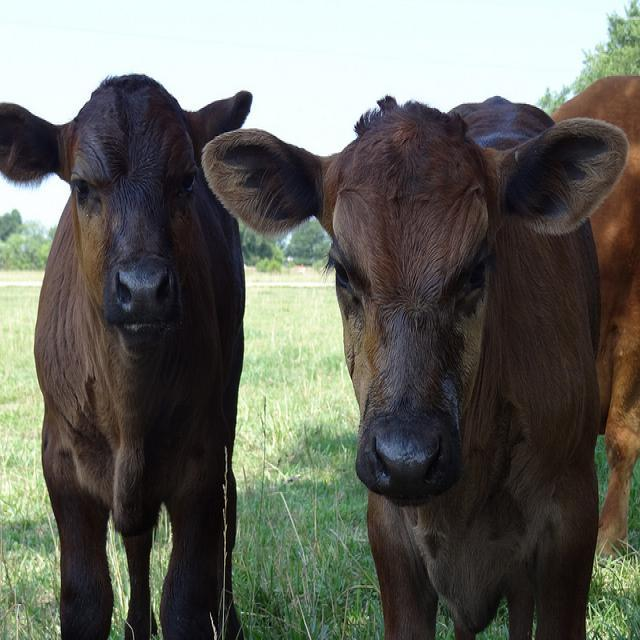cow: (202, 93, 631, 639), (0, 75, 251, 639), (551, 77, 639, 548)
